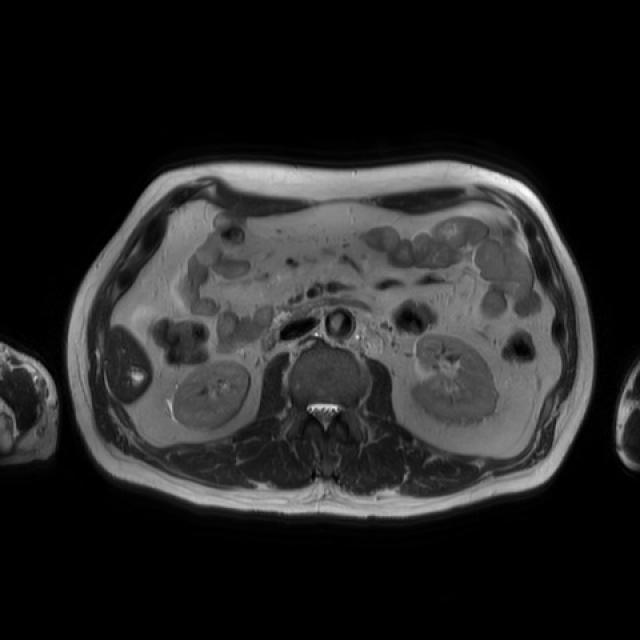sag: (173, 361, 251, 430)
sol: (414, 336, 498, 426)
